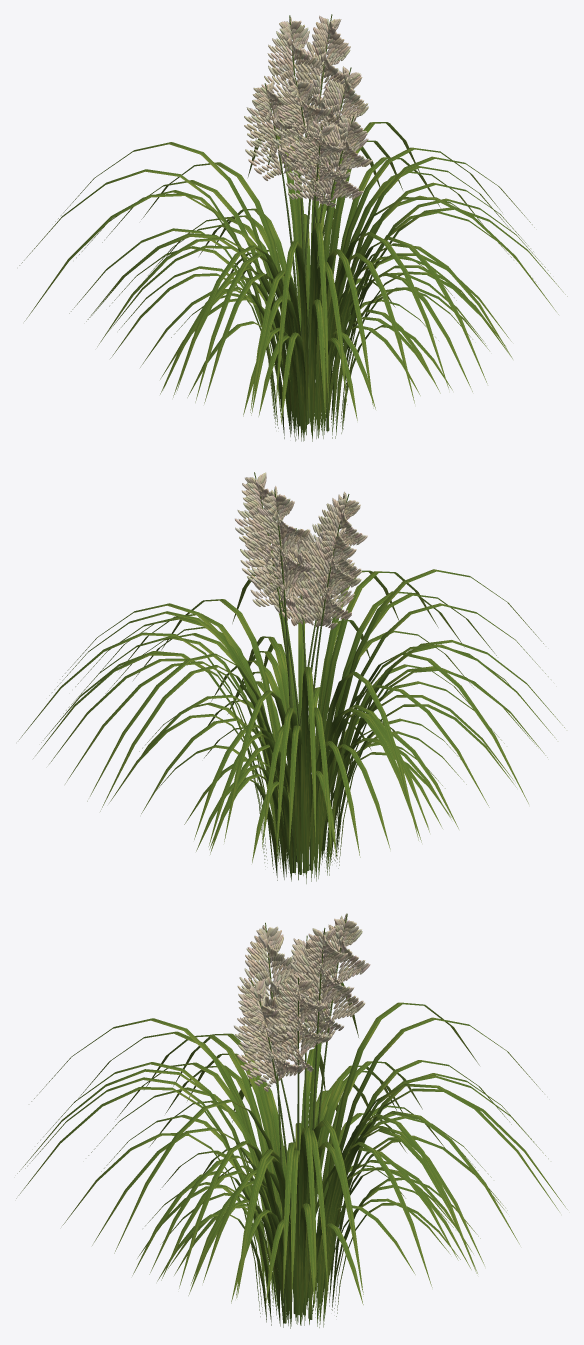
File: pampas.glb
3 renders of one model, top to bottom at view 1: azimuth 30°, elevation 25°; view 2: azimuth 150°, elevation 25°; view 3: azimuth 270°, elevation 25°, orthographic. The views are drawn at different scales.
Parts seen in each view (by area): view 1: Foliage, Flowers, Stems; view 2: Foliage, Flowers, Stems; view 3: Foliage, Flowers, Stems.
Part boxes in pixels (x1=…): Foliage: x1=19, y1=119, x2=567, y2=441; Flowers: x1=244, y1=15, x2=372, y2=207; Stems: x1=264, y1=14, x2=354, y2=431; Foliage: x1=19, y1=569, x2=564, y2=883; Flowers: x1=235, y1=472, x2=367, y2=629; Stems: x1=254, y1=472, x2=349, y2=874; Foliage: x1=16, y1=982, x2=567, y2=1328; Flowers: x1=234, y1=913, x2=370, y2=1091; Stems: x1=251, y1=913, x2=347, y2=1323.
Bounding box in the file's own units: 1.76 × 1.35 × 1.67.
Materials: 3 (1 with a texture image).
